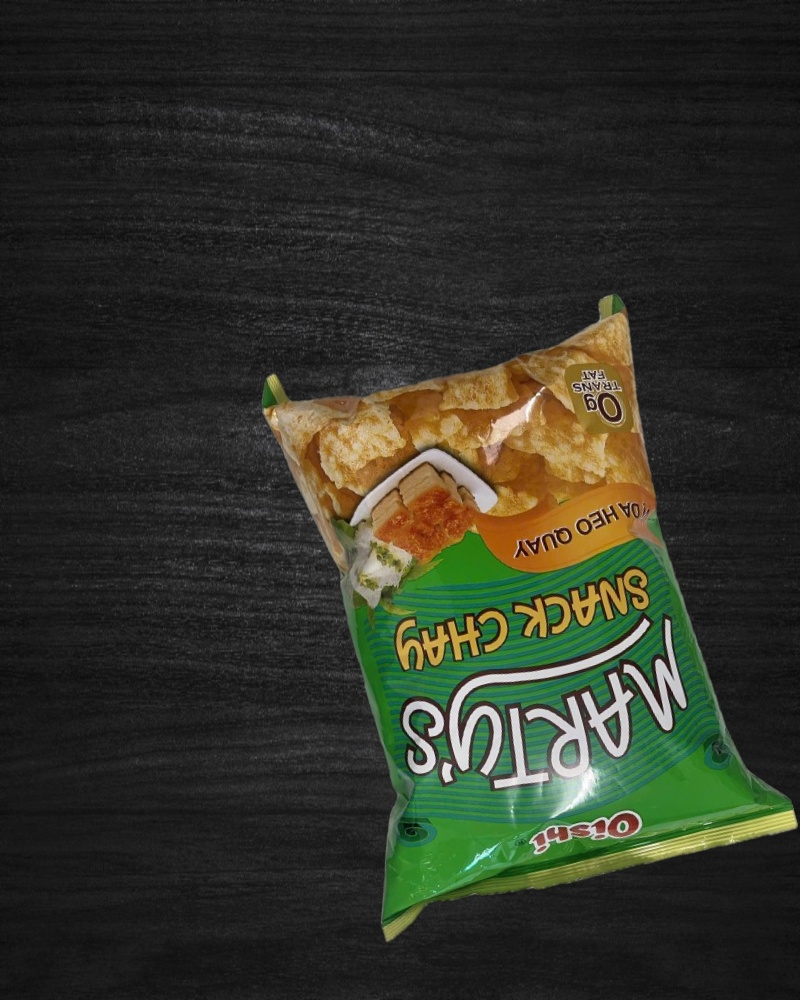Snack chay: (257, 274, 800, 938)
